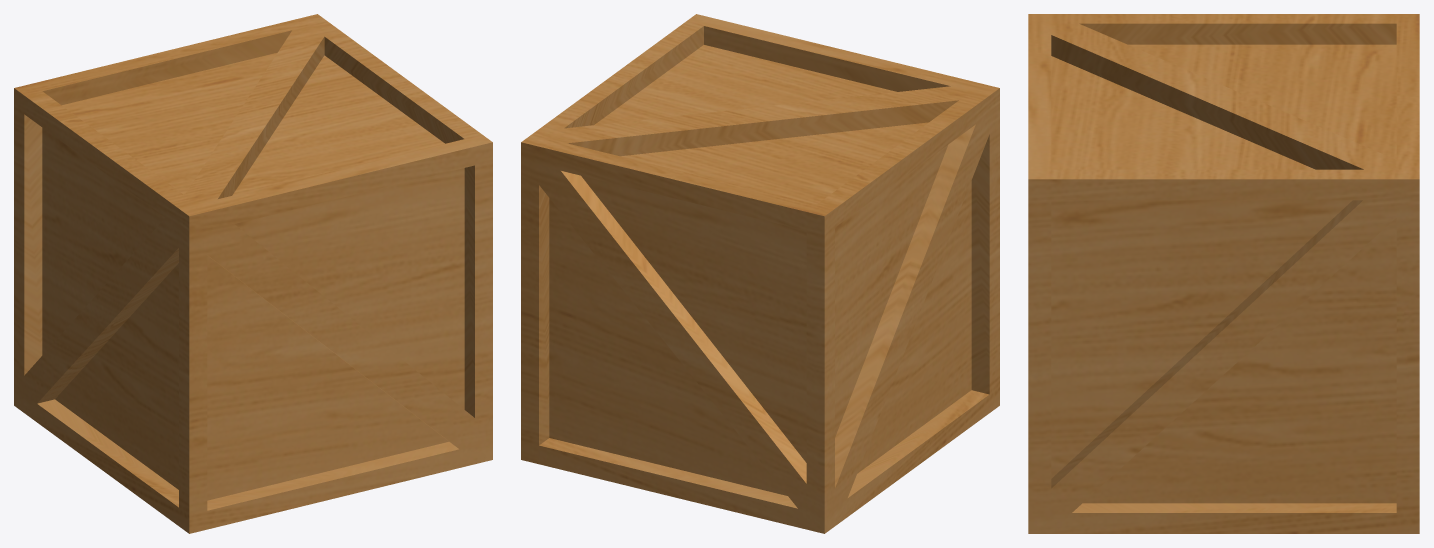
Rendered from Crate1.fbx.
3 views of the same model, side by side, from view 1: azimuth 30°, elevation 25°; view 2: azimuth 150°, elevation 25°; view 3: azimuth 270°, elevation 25° (orthographic). The views are drawn at different scales.
Parts seen in each view (by area): view 1: pCube2; view 2: pCube2; view 3: pCube2.
Boxes of the visible parts, x1=… form: pCube2: x1=14, y1=14, x2=492, y2=533; pCube2: x1=521, y1=14, x2=999, y2=533; pCube2: x1=1028, y1=14, x2=1419, y2=533.
Bounding box in the file's own units: 95.22 × 95.22 × 95.22.
